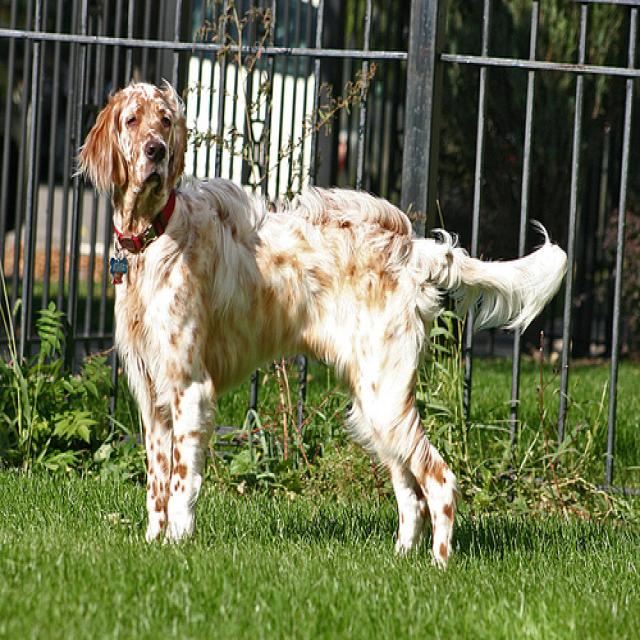dog-english_setter: (76, 76, 573, 567)
